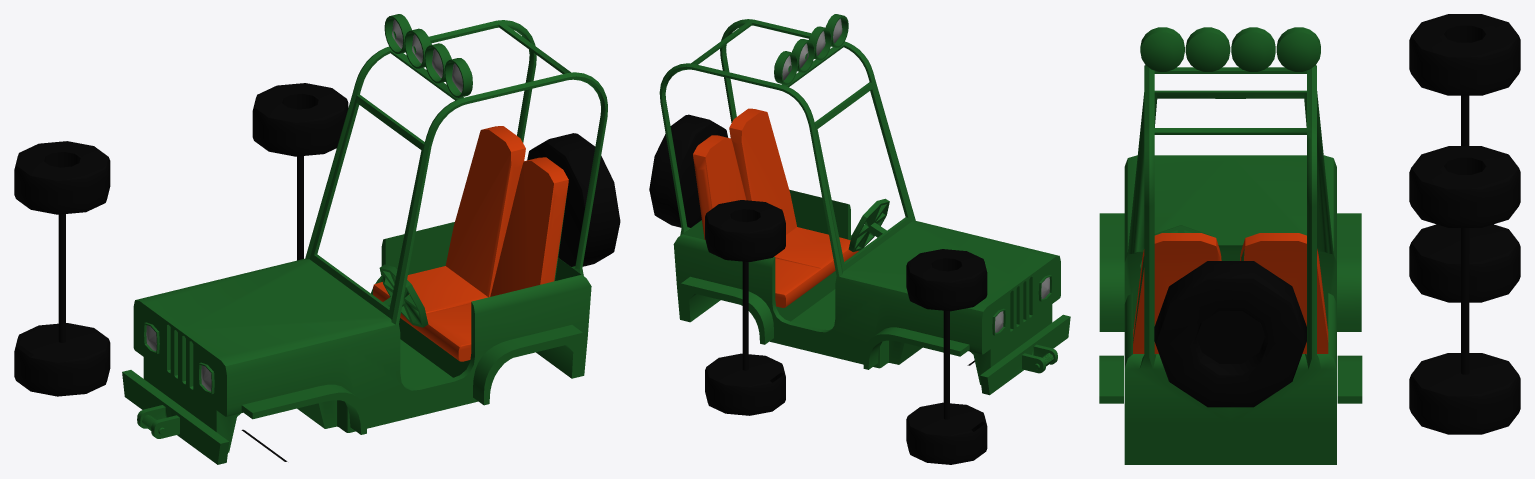
3 views of the same model, side by side, from view 1: azimuth 30°, elevation 25°; view 2: azimuth 150°, elevation 25°; view 3: azimuth 270°, elevation 25° (orthographic). The views are drawn at different scales.
Visible parts, largest first — view 1: Plane002_ncl1_1, Plane002, FL, FR, HL, 지프; view 2: Plane002_ncl1_1, Plane002, FL, HL, FR, HR, 지프; view 3: Plane002_ncl1_1, Plane002, HL, FL, HR, FR, Object001_ncl1_1.
Part boxes in pixels (<box>): Plane002_ncl1_1: <box>122,14,620,464</box>; Plane002: <box>122,16,620,464</box>; FL: <box>14,141,110,214</box>; FR: <box>14,323,110,396</box>; HL: <box>252,83,348,156</box>; 지프: <box>58,156,302,342</box>; Plane002_ncl1_1: <box>649,14,1069,395</box>; Plane002: <box>649,16,1070,394</box>; FL: <box>906,249,987,311</box>; HL: <box>705,200,785,261</box>; FR: <box>906,402,987,464</box>; HR: <box>705,353,785,415</box>; 지프: <box>742,261,949,419</box>; Plane002_ncl1_1: <box>1099,27,1362,464</box>; Plane002: <box>1099,32,1362,464</box>; HL: <box>1409,146,1520,227</box>; FL: <box>1409,14,1520,95</box>; HR: <box>1409,353,1520,434</box>; FR: <box>1409,224,1520,302</box>; Object001_ncl1_1: <box>1461,228,1468,374</box>.
Size of the model in its own units: 308 by 222 by 213.
